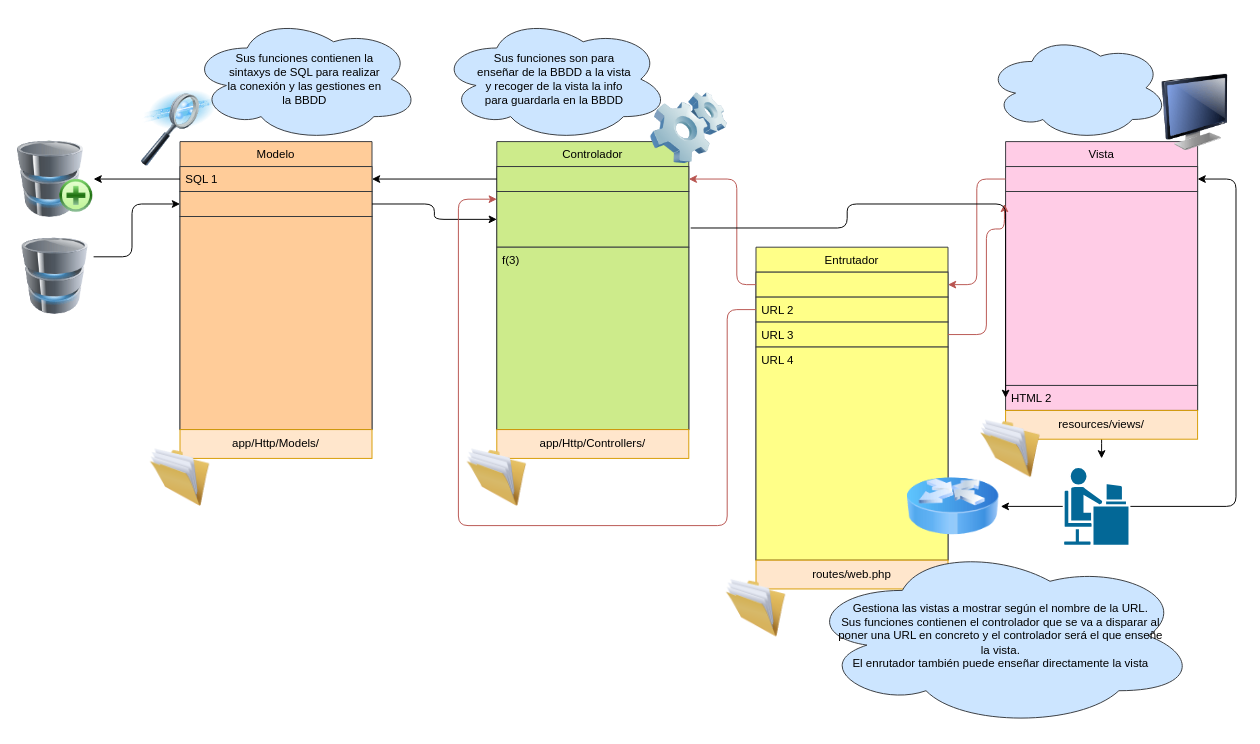
Image size: 1260x744. Some labels were removed from this diagram. Each missing label, with the centre of its shape:
"Contiene la estructura HTML para enseñar y recoger info" goes at pixel 1077 87.
"f(1)" goes at pixel 592 179.
"f(2)" goes at pixel 592 219.
"HTML 1" goes at pixel 1101 179.
"HTML 3" goes at pixel 1101 288.
"SQL 2" goes at pixel 275 203.
"SQL 3" goes at pixel 275 323.
"URL 1" goes at pixel 851 284.
